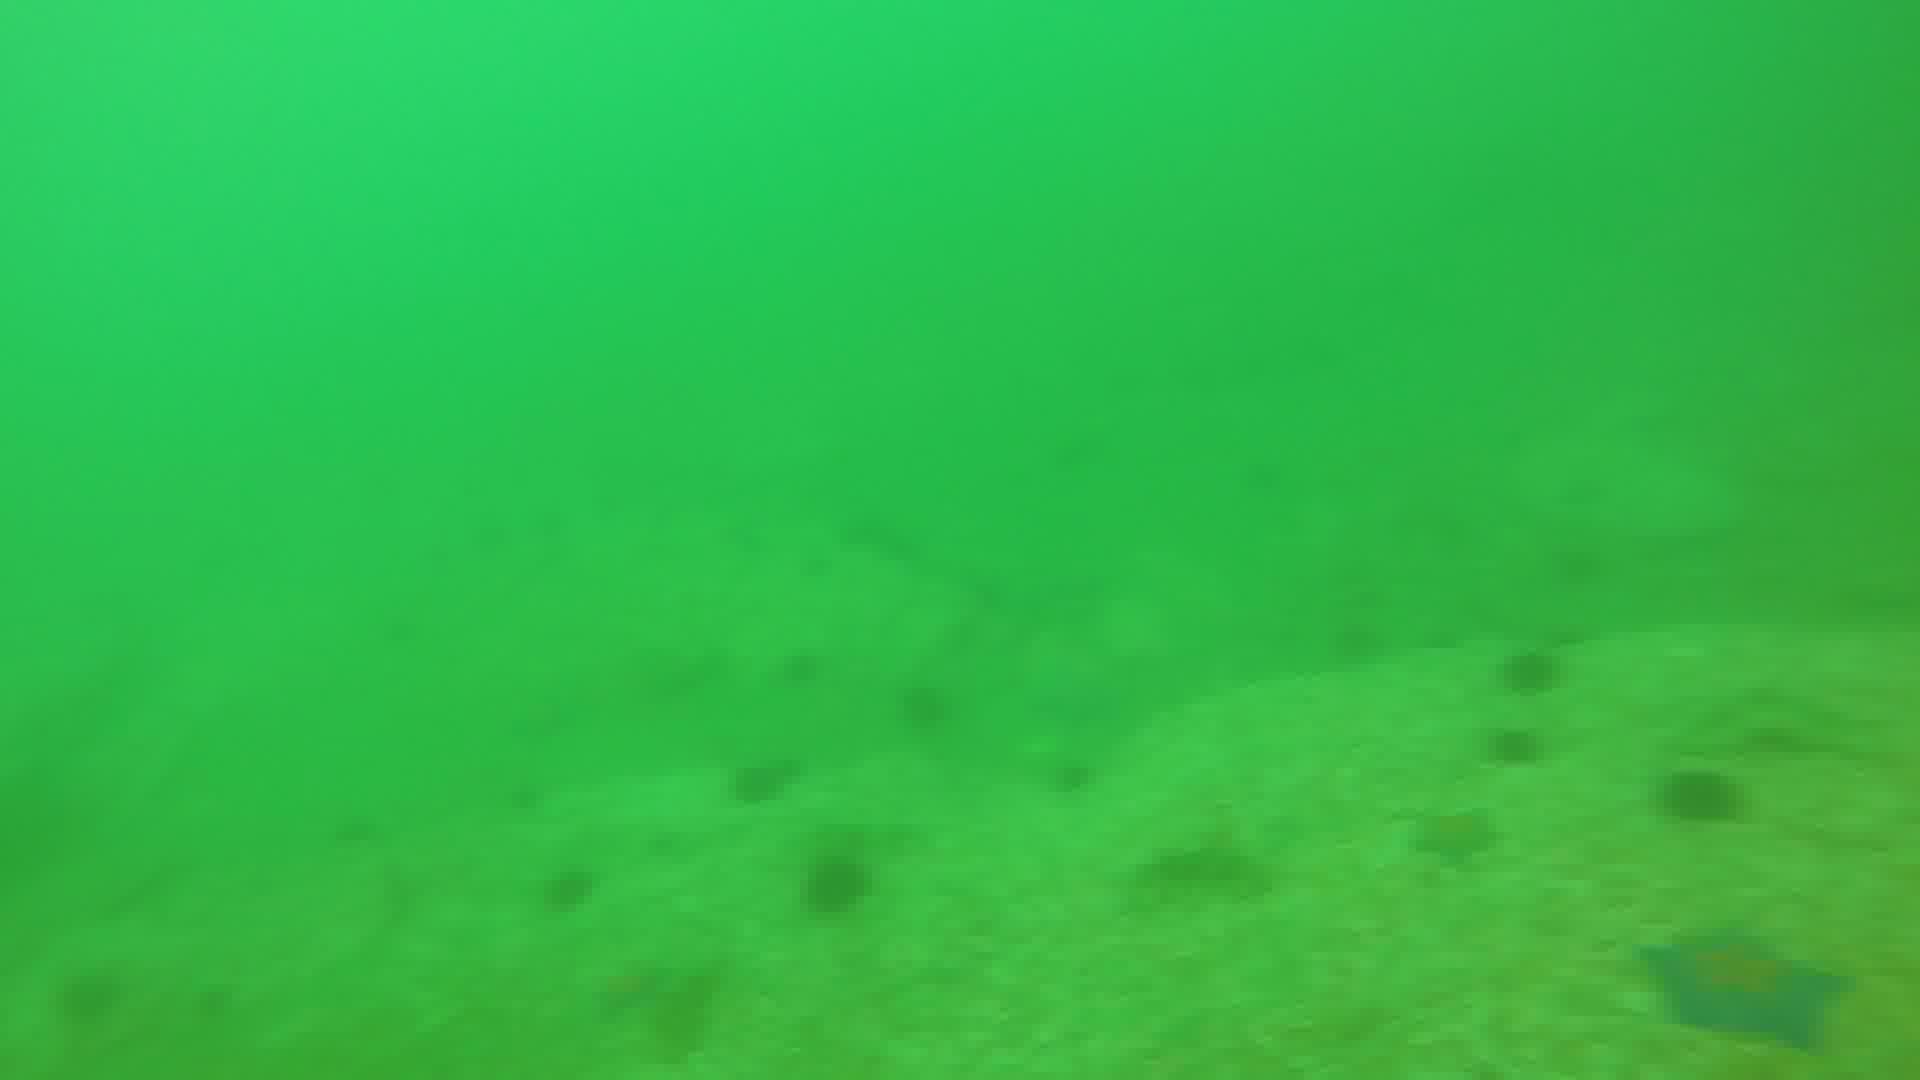echinus: (1658, 769, 1754, 823), (806, 848, 876, 916), (737, 761, 812, 808), (1505, 651, 1571, 698), (1489, 727, 1549, 770), (539, 865, 599, 909)
starfish: (1643, 923, 1855, 1054), (1407, 807, 1511, 862)
